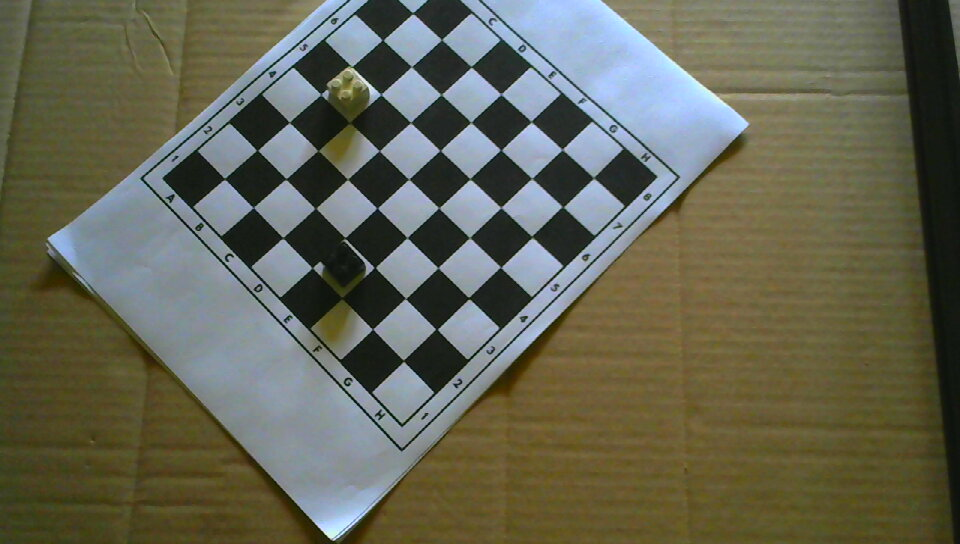bp: (322, 242, 367, 289)
wp: (325, 67, 371, 114)
